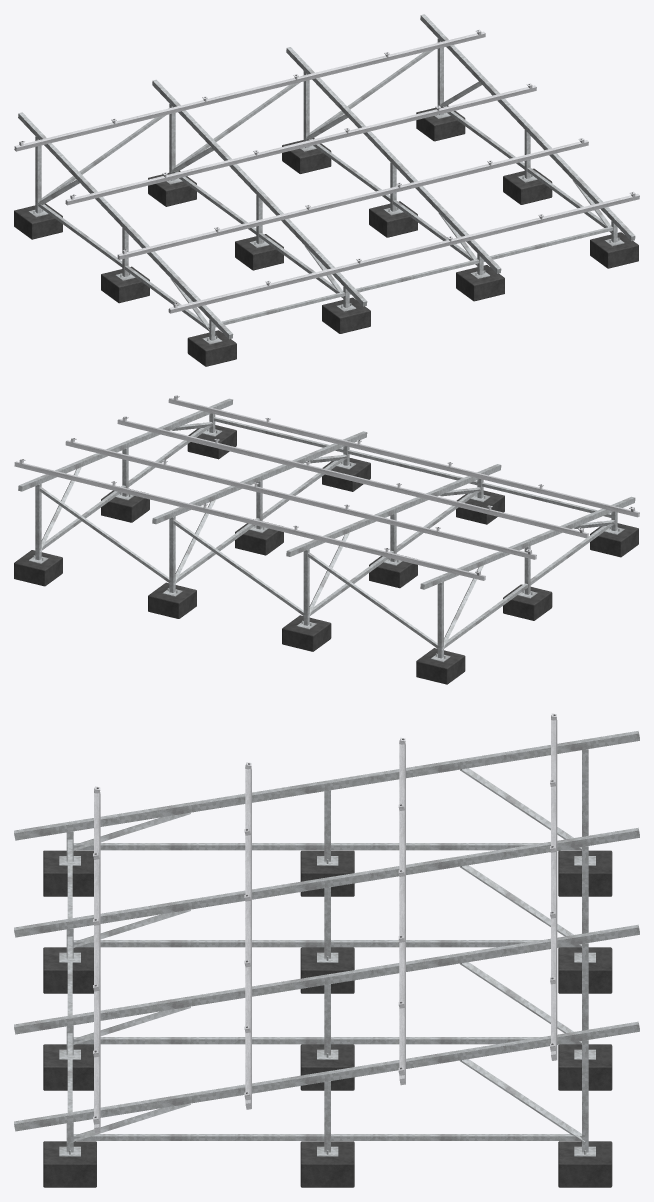
Rendered from A02_Mounting_Structure.fbx.
3 views of the same model, one above another, from view 1: azimuth 30°, elevation 25°; view 2: azimuth 150°, elevation 25°; view 3: azimuth 270°, elevation 25° (orthographic). The views are drawn at different scales.
Parts seen in each view (by area): view 1: Rail_1, Rail_2, Rail_3, Rail_4, Rafter_4, Rafter_2, Rafter_3, Rafter_1, Ballast_1_1, Ballast_4_1, Ballast_3_1, Ballast_2_1 (+18 smaller); view 2: Rail_4, Rail_2, Rail_3, Rail_1, Rafter_2, Rafter_1, Rafter_4, Rafter_3, Ballast_2_3, Ballast_1_3, Ballast_4_3, Ballast_3_3 (+22 smaller); view 3: Rafter_3, Rafter_1, Rafter_4, Rafter_2, Tie_4, Tie_1, Tie_2, Tie_3, Ballast_4_2, Ballast_4_3, Ballast_4_1, Rail_4 (+21 smaller).
Part boxes in pixels (<box>): Rail_1: <box>168,193,639,313</box>; Rail_2: <box>117,140,588,259</box>; Rail_3: <box>65,85,536,205</box>; Rail_4: <box>14,31,485,151</box>; Rafter_4: <box>420,14,635,241</box>; Rafter_2: <box>152,79,367,306</box>; Rafter_3: <box>286,47,501,273</box>; Rafter_1: <box>18,112,233,339</box>; Ballast_1_1: <box>187,330,236,366</box>; Ballast_4_1: <box>590,232,638,268</box>; Ballast_3_1: <box>456,265,504,301</box>; Ballast_2_1: <box>322,297,370,333</box>; Rail_4: <box>14,461,485,580</box>; Rail_2: <box>117,419,588,538</box>; Rail_3: <box>65,440,536,559</box>; Rail_1: <box>168,398,639,517</box>; Rafter_2: <box>286,464,501,556</box>; Rafter_1: <box>420,496,635,589</box>; Rafter_4: <box>18,398,232,491</box>; Rafter_3: <box>152,431,367,524</box>; Ballast_2_3: <box>282,615,331,651</box>; Ballast_1_3: <box>416,648,465,684</box>; Ballast_4_3: <box>14,550,62,586</box>; Ballast_3_3: <box>148,582,196,618</box>; Rafter_3: <box>14,924,639,1034</box>; Rafter_1: <box>14,731,639,840</box>; Rafter_4: <box>14,1021,639,1131</box>; Rafter_2: <box>14,827,639,937</box>; Tie_4: <box>73,1134,581,1140</box>; Tie_1: <box>73,843,581,850</box>; Tie_2: <box>73,940,581,947</box>; Tie_3: <box>73,1037,581,1044</box>; Ballast_4_2: <box>300,1141,354,1187</box>; Ballast_4_3: <box>558,1141,612,1187</box>; Ballast_4_1: <box>43,1141,96,1187</box>; Rail_4: <box>551,716,557,1060</box>.
Bounding box in the file's own units: 5.95 × 1.26 × 4.64.
Materials: 4 (4 with a texture image).
